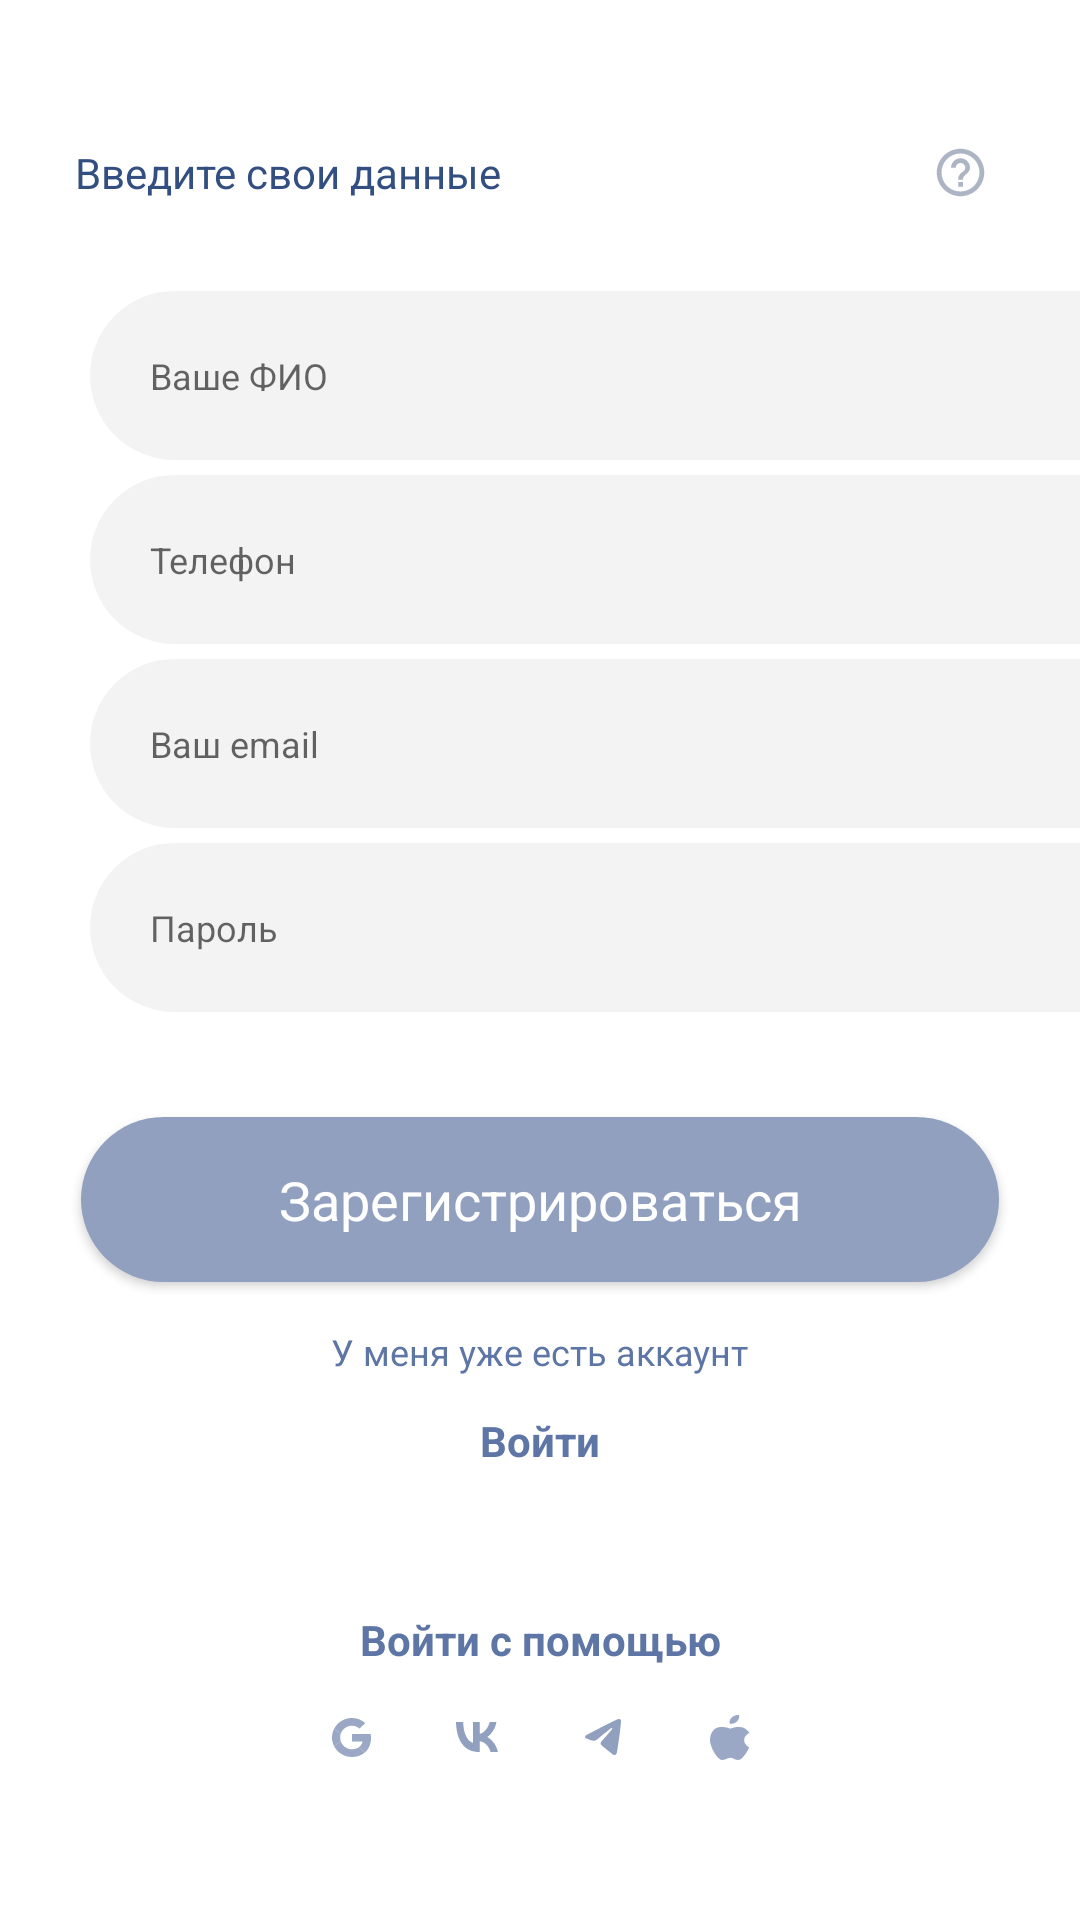

Icon click points for this 1080 × 1920 phone screenshot, format point (x, y):
help: point (960, 172)
